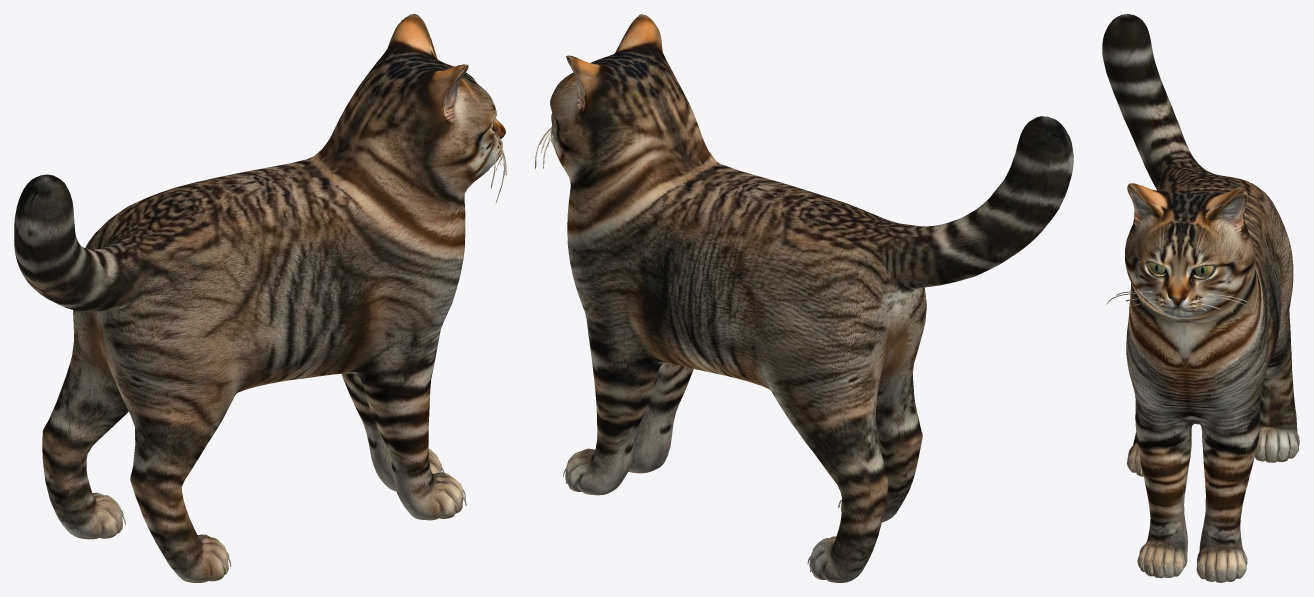
File: STEPANCAT.glb
3 renders of one model, left to right at view 1: azimuth 30°, elevation 25°; view 2: azimuth 150°, elevation 25°; view 3: azimuth 270°, elevation 25°, orthographic. The views are drawn at different scales.
Parts seen in each view (by area): view 1: fit; view 2: fit; view 3: fit.
Part boxes in pixels (x1,y1,x2,y2): fit: [14, 14, 506, 582]; fit: [535, 14, 1073, 582]; fit: [1102, 14, 1299, 582].
Bounding box in the file's own units: 1.18 × 0.9998 × 0.4581.
Materials: 1 (1 with a texture image).
